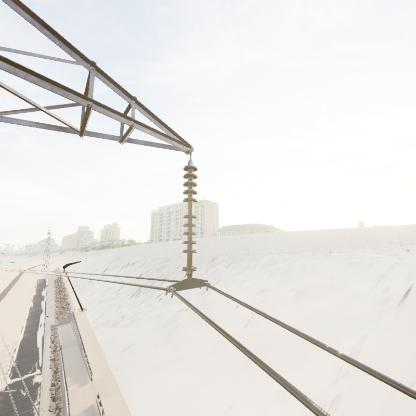insulator: (179, 161, 200, 279)
